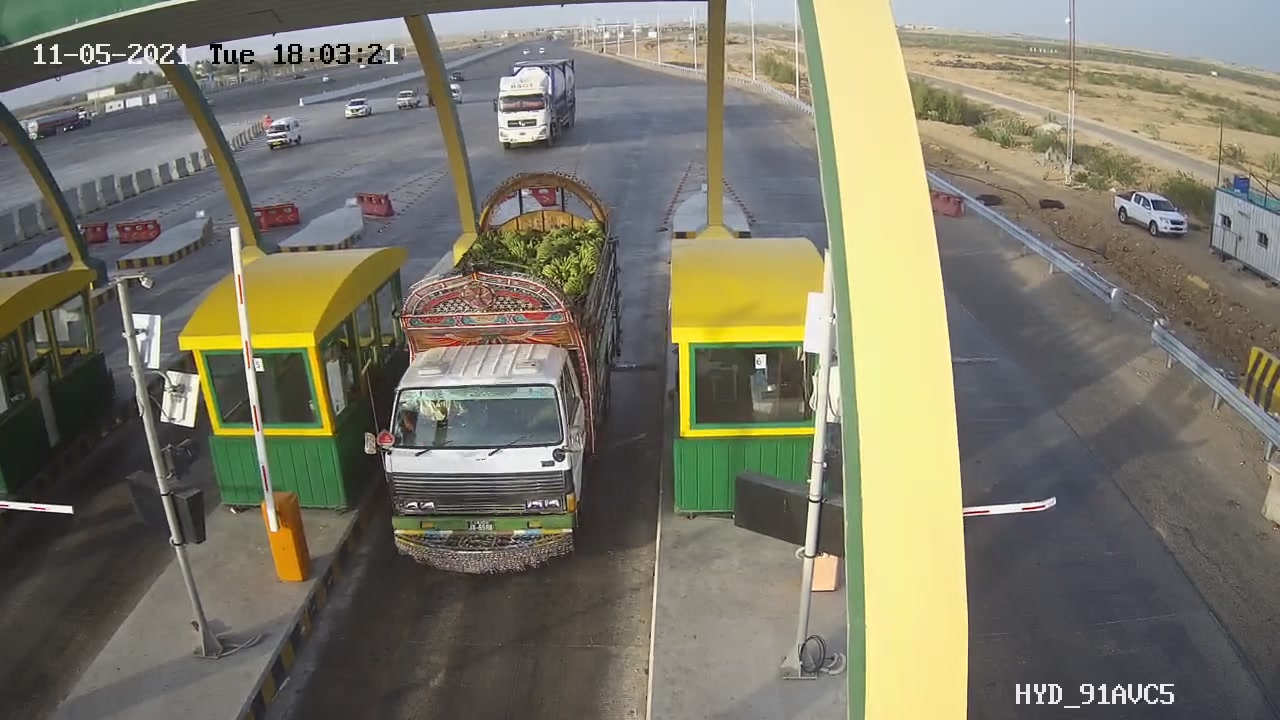F5: (344, 162, 647, 599)
